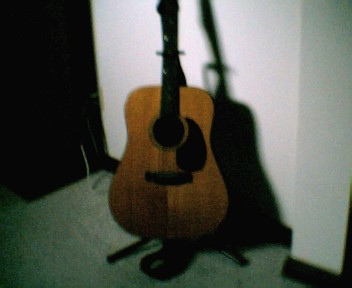guitar: (109, 1, 229, 239)
